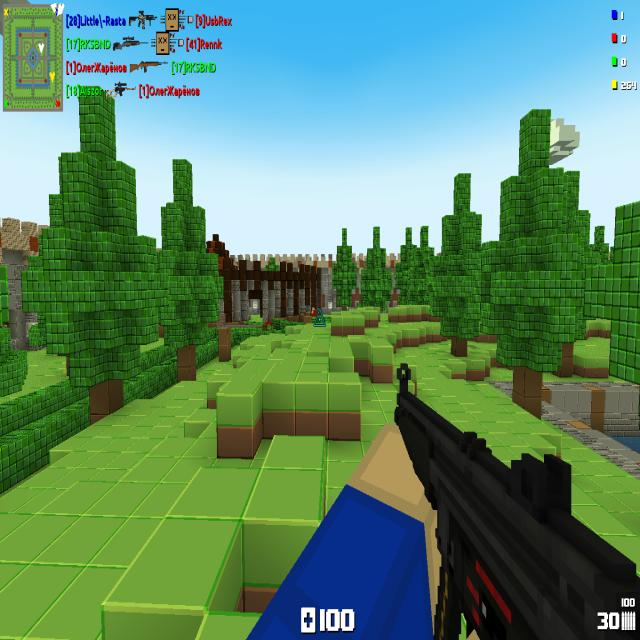enemy: (264, 317, 273, 326), (312, 306, 316, 317)
